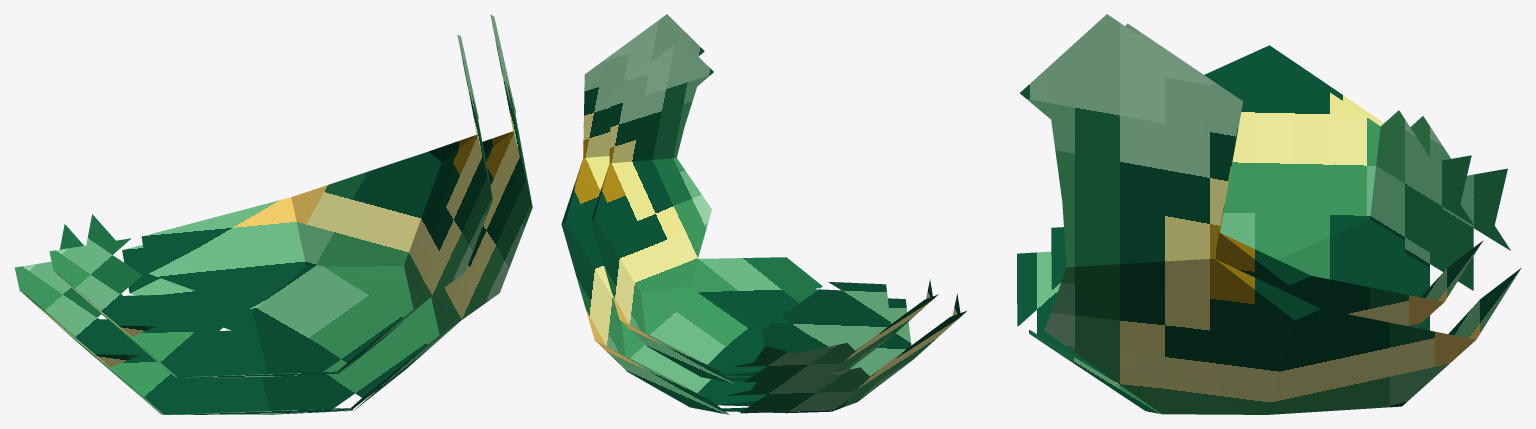
The model's file is delta_orb_1.obj.
3 views of the same model, side by side, from view 1: azimuth 30°, elevation 25°; view 2: azimuth 150°, elevation 25°; view 3: azimuth 270°, elevation 25° (orthographic). The views are drawn at different scales.
Visible parts, largest first — view 1: pSolid4; view 2: pSolid4; view 3: pSolid4.
Part boxes in pixels (box(x1,y1,x2,y2)): pSolid4: box(14, 14, 532, 414); pSolid4: box(561, 14, 966, 414); pSolid4: box(1017, 14, 1521, 414).
Size of the model in its own units: 0.8242 by 0.655 by 0.6195.
